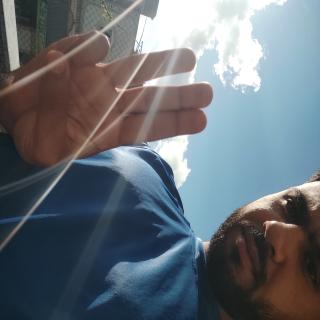THA: (16, 132, 138, 320)
